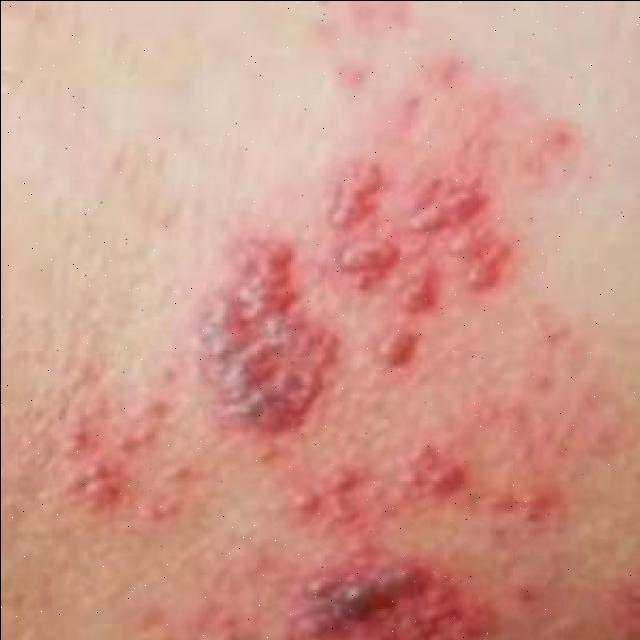Shingles: (48, 158, 517, 636)
